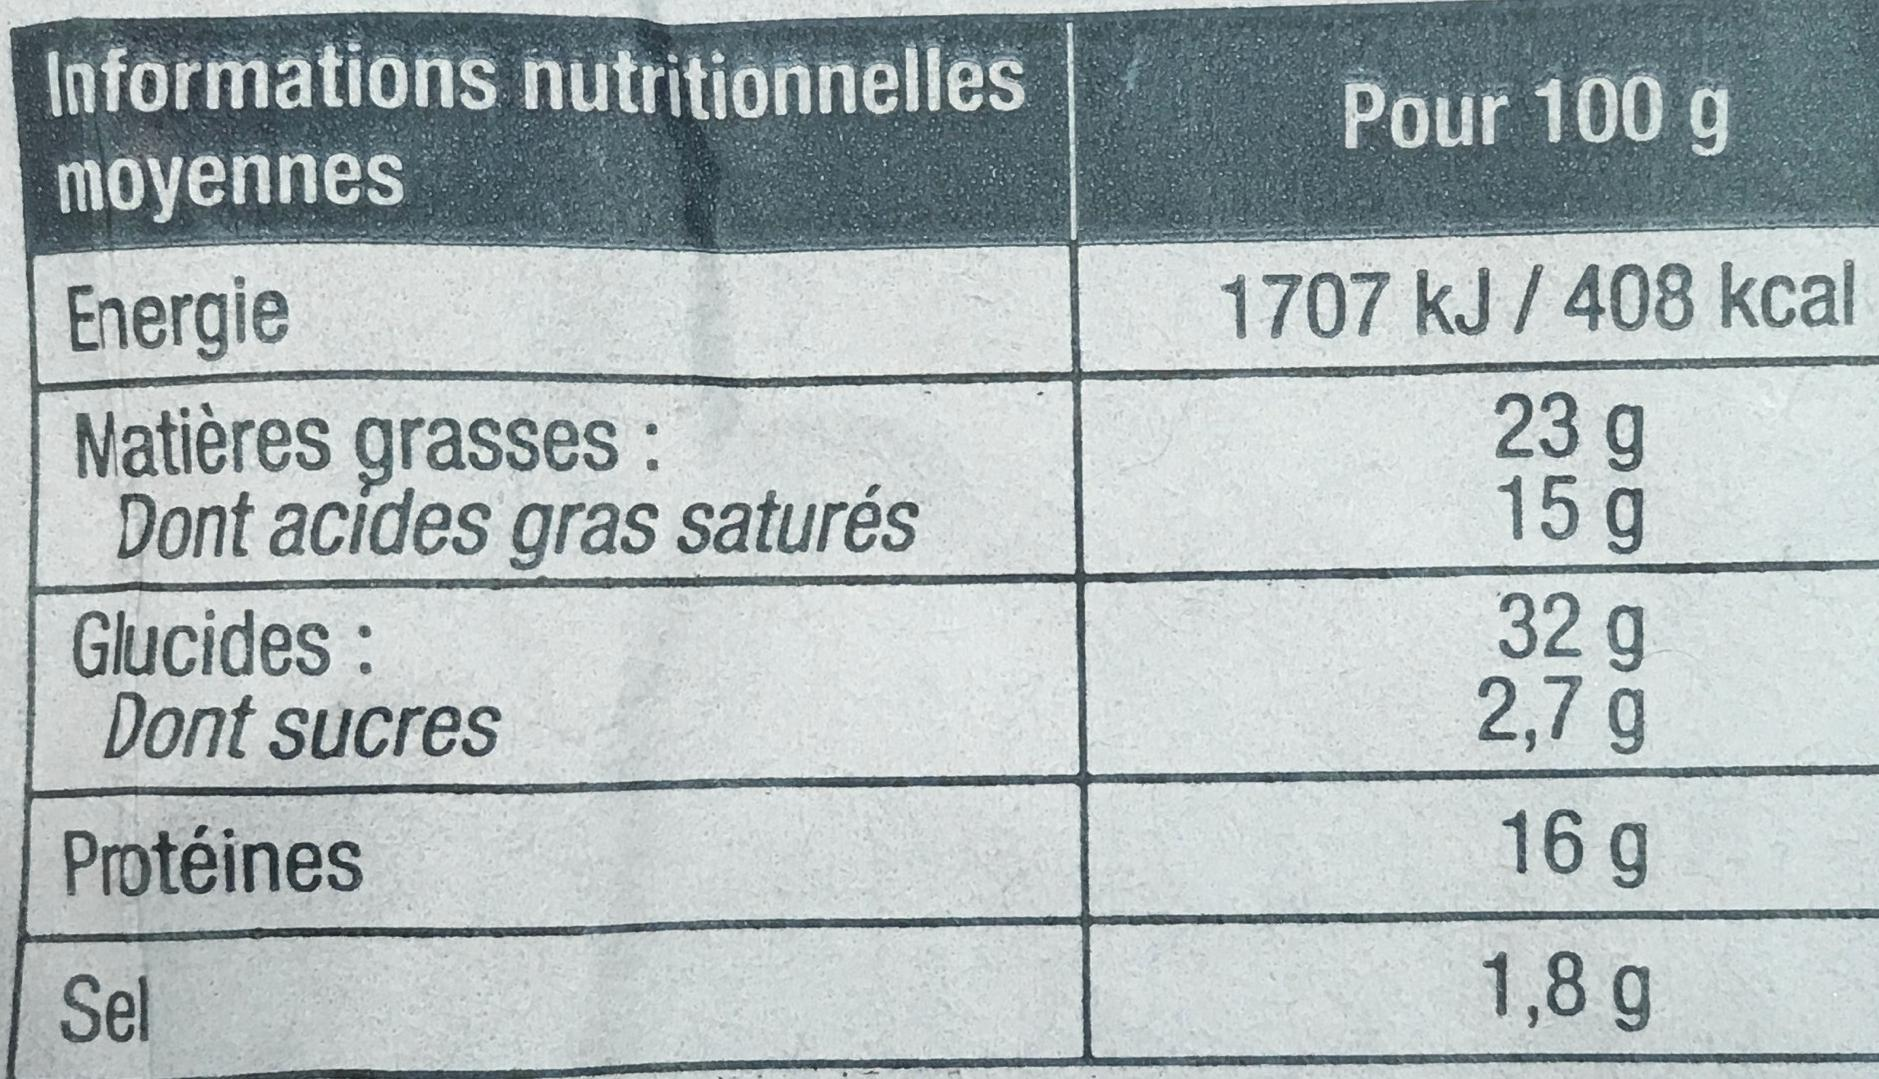column: (62, 281, 918, 1049), (1212, 71, 1865, 1034)
line: (46, 46, 1857, 209), (65, 259, 1862, 351), (66, 953, 1849, 1034), (63, 681, 1852, 758), (75, 394, 1848, 469), (62, 595, 1853, 669), (57, 816, 1847, 887), (75, 485, 1851, 554)
table: (15, 17, 1879, 1069)
